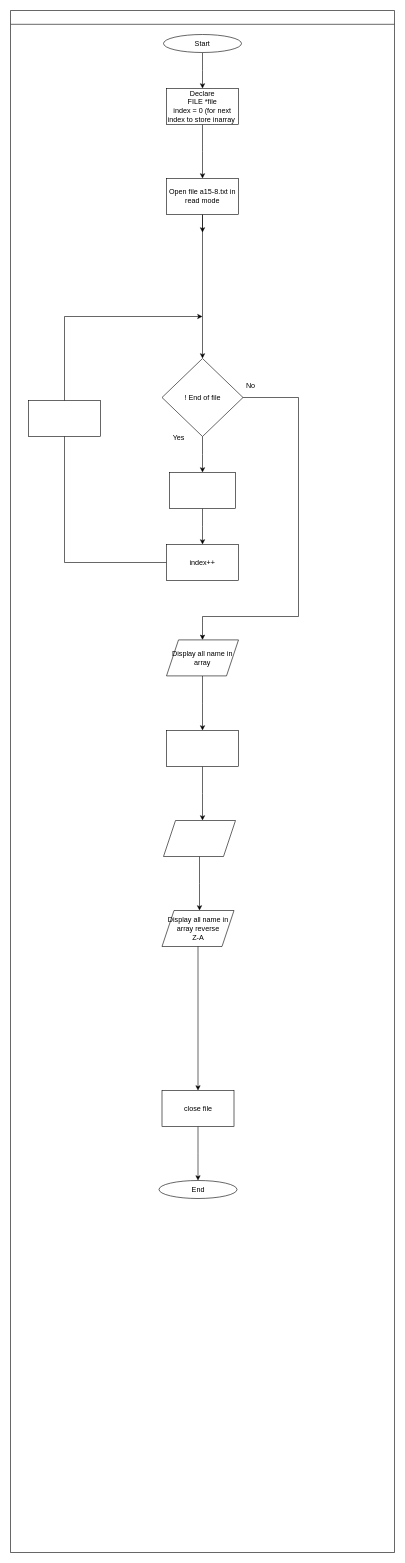
Some shapes in this 405 by 1563 pixel diagram are drawn without their labels. Here are the shapes that lost their labels. From the top down, the centre of each, then its label:
At pixel 64 418: "next".
At pixel 202 490: "Read name from file store in array".
At pixel 202 748: "Sort using Bubble sort for A - Z".
At pixel 199 838: "Display all name in array after sort".
